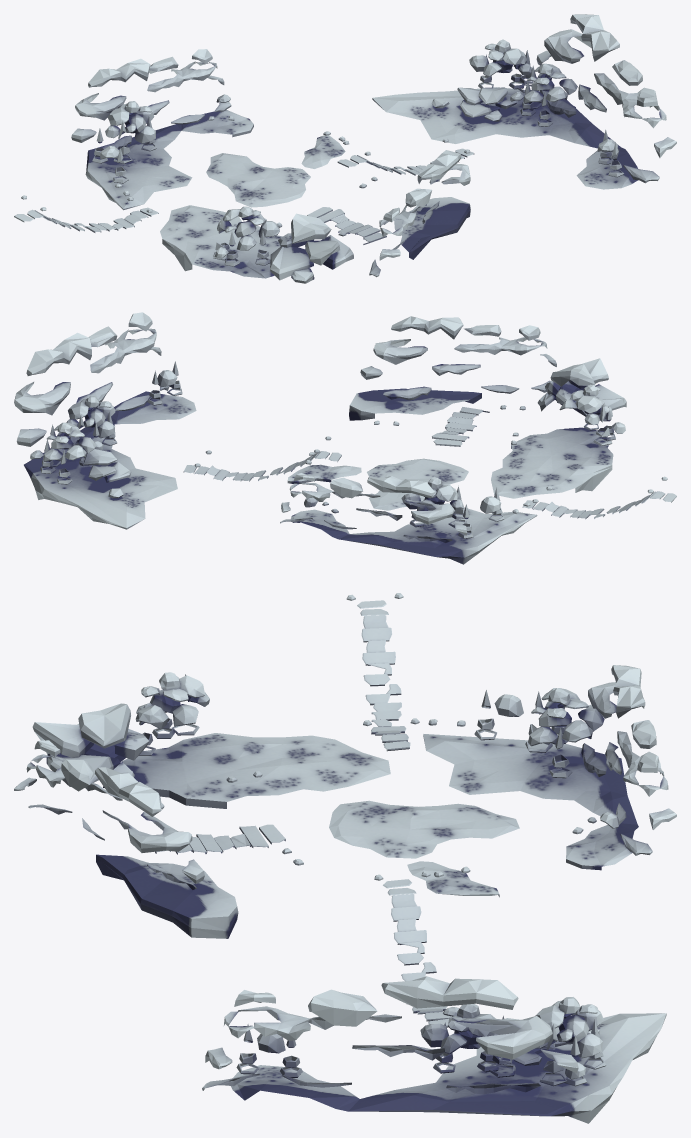
File: Snow_01.FBX
3 renders of one model, top to bottom at view 1: azimuth 30°, elevation 25°; view 2: azimuth 150°, elevation 25°; view 3: azimuth 270°, elevation 25°, orthographic. The views are drawn at different scales.
Parts seen in each view (by area): view 1: Snow_01; view 2: Snow_01; view 3: Snow_01.
Part boxes in pixels (x1,y1,x2,y2): Snow_01: (14, 14, 676, 283); Snow_01: (14, 312, 676, 564); Snow_01: (14, 593, 676, 1123).
Bounding box in the file's own units: 52.07 × 10.05 × 33.53.
